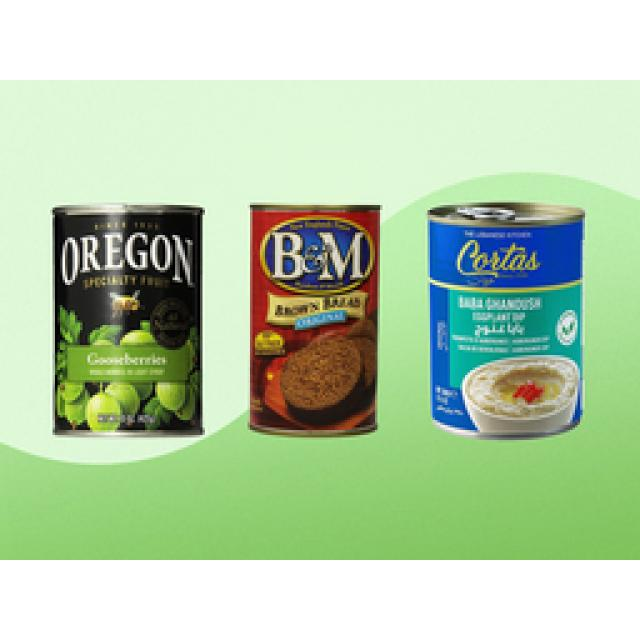alumunium: (428, 202, 582, 438), (52, 205, 200, 432), (250, 205, 378, 432)
